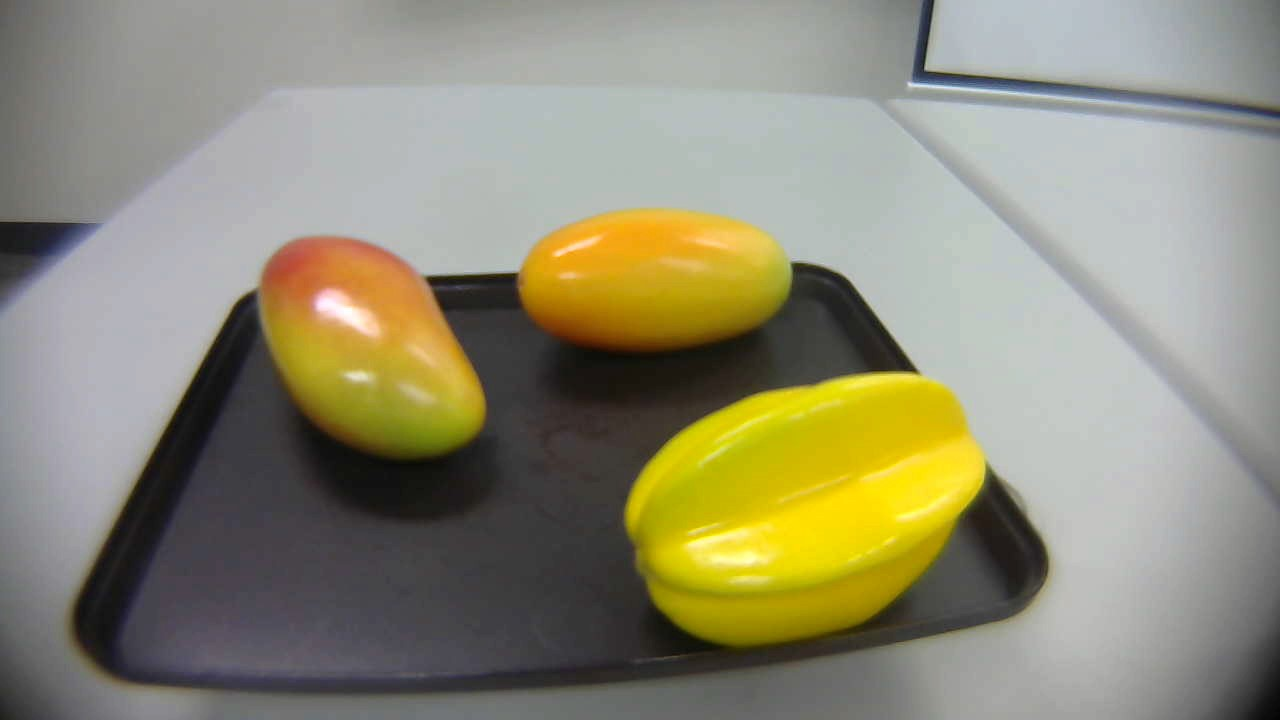red mango: (254, 230, 495, 466)
star fruit: (607, 363, 1009, 655)
yellow mango: (500, 209, 805, 363)
